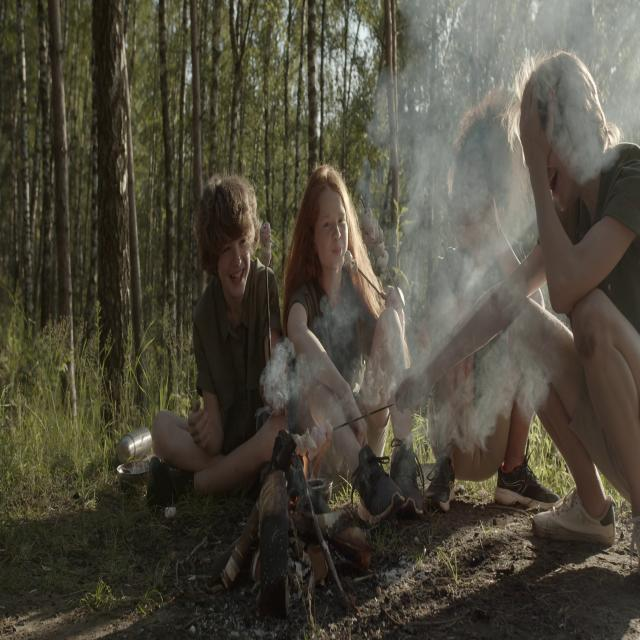Smoke: (362, 0, 542, 463), (533, 0, 640, 178), (264, 344, 344, 460)
